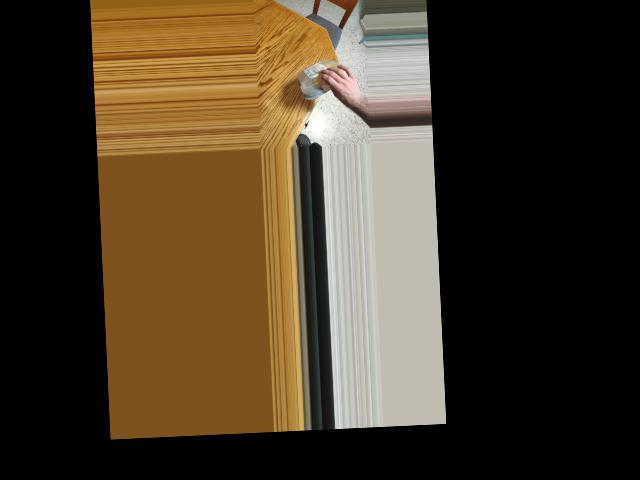cheese: (299, 64, 341, 95)
